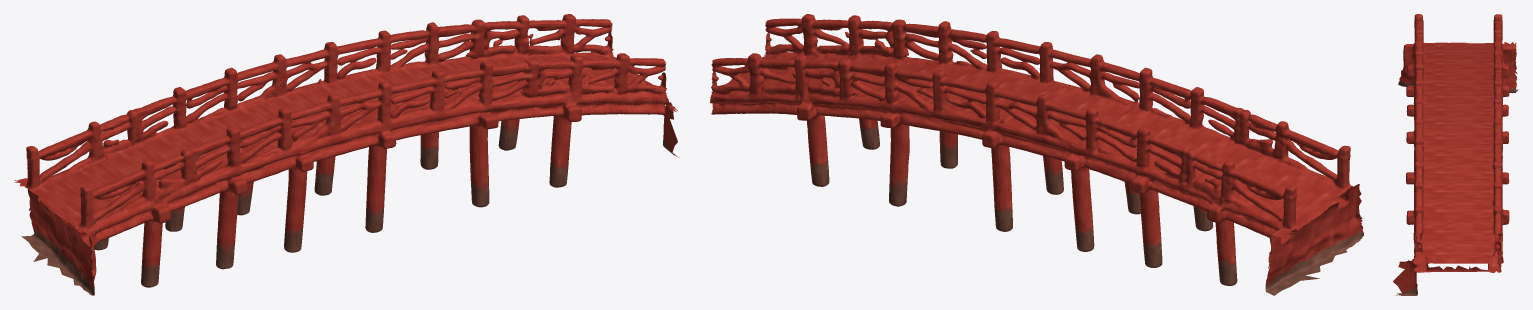
The model's file is cau-the-huc-heritage.glb.
3 views of the same model, side by side, from view 1: azimuth 30°, elevation 25°; view 2: azimuth 150°, elevation 25°; view 3: azimuth 270°, elevation 25° (orthographic). The views are drawn at different scales.
Visible parts, largest first — view 1: Heritage | Cầu Thê Húc sơn son satin, Heritage | Ván gỗ ngang mặt cầu, Heritage | Cột, cửa và xà gỗ sơn nâu; view 2: Heritage | Cầu Thê Húc sơn son satin, Heritage | Ván gỗ ngang mặt cầu, Heritage | Cột, cửa và xà gỗ sơn nâu; view 3: Heritage | Ván gỗ ngang mặt cầu, Heritage | Cầu Thê Húc sơn son satin, Heritage | Cột, cửa và xà gỗ sơn nâu.
Part boxes in pixels (box(x1,y1,x2,y2)): Heritage | Cầu Thê Húc sơn son satin: box(14, 14, 677, 287); Heritage | Ván gỗ ngang mặt cầu: box(28, 16, 652, 225); Heritage | Cột, cửa và xà gỗ sơn nâu: box(21, 122, 678, 295); Heritage | Cầu Thê Húc sơn son satin: box(710, 14, 1363, 285); Heritage | Ván gỗ ngang mặt cầu: box(716, 53, 1345, 233); Heritage | Cột, cửa và xà gỗ sơn nâu: box(810, 123, 1363, 295); Heritage | Ván gỗ ngang mặt cầu: box(1422, 14, 1497, 257); Heritage | Cầu Thê Húc sơn son satin: box(1393, 14, 1517, 292); Heritage | Cột, cửa và xà gỗ sơn nâu: box(1395, 81, 1518, 295).
Size of the model in its own units: 46.73 by 10.99 by 11.7.
Materials: 3 (3 with a texture image).
